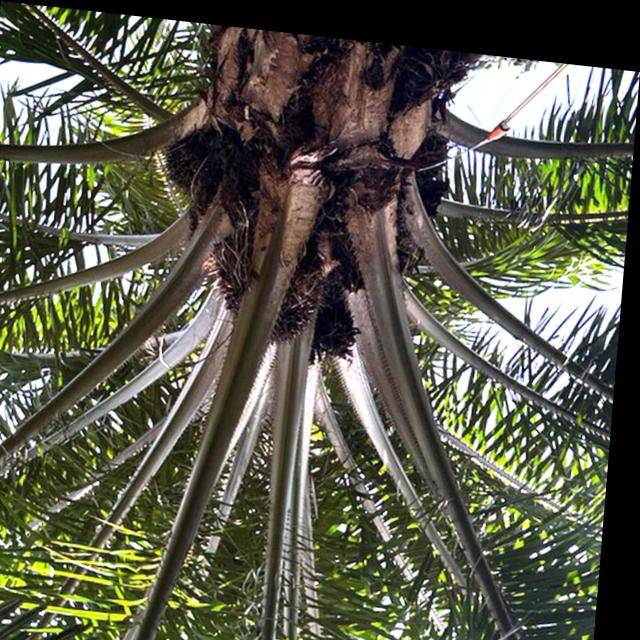ripe: (199, 220, 338, 351)
